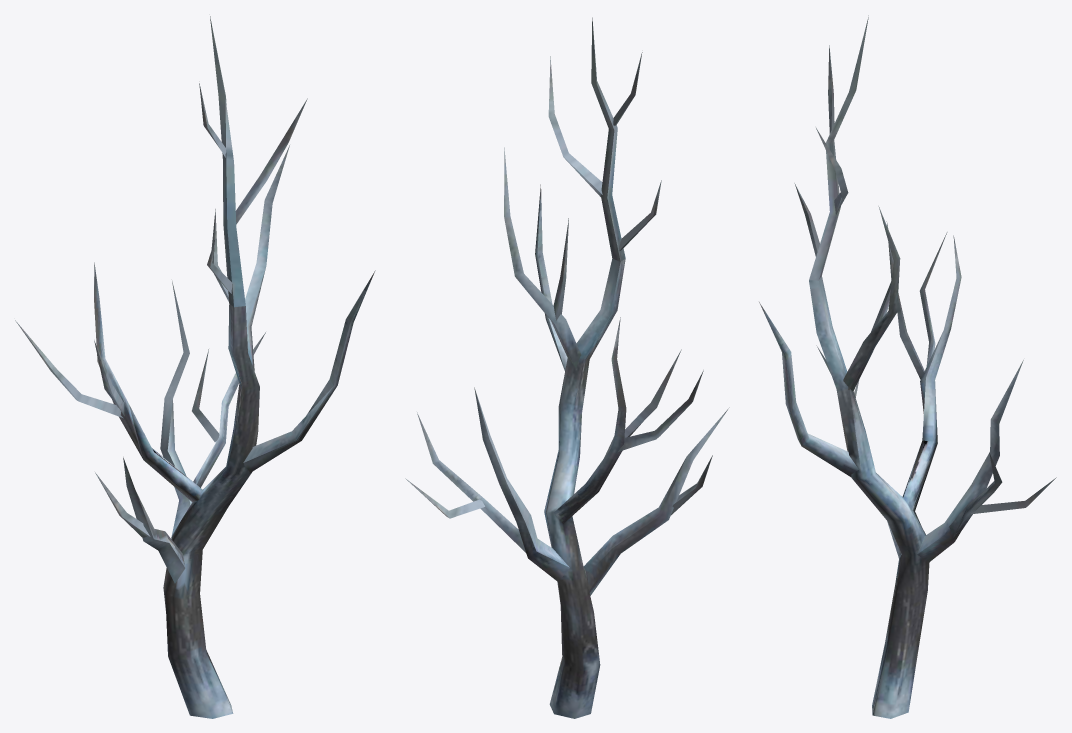
File: map_114_shu_6.fbx
3 renders of one model, left to right at view 1: azimuth 30°, elevation 25°; view 2: azimuth 150°, elevation 25°; view 3: azimuth 270°, elevation 25°, orthographic. The views are drawn at different scales.
Visible parts, largest first — view 1: map_114_shu_6; view 2: map_114_shu_6; view 3: map_114_shu_6.
Part boxes in pixels (bbox=[...]): map_114_shu_6: bbox=[15, 16, 375, 718]; map_114_shu_6: bbox=[405, 17, 729, 718]; map_114_shu_6: bbox=[759, 15, 1056, 718].
Bounding box in the file's own units: 1.13 × 2.78 × 1.09.
